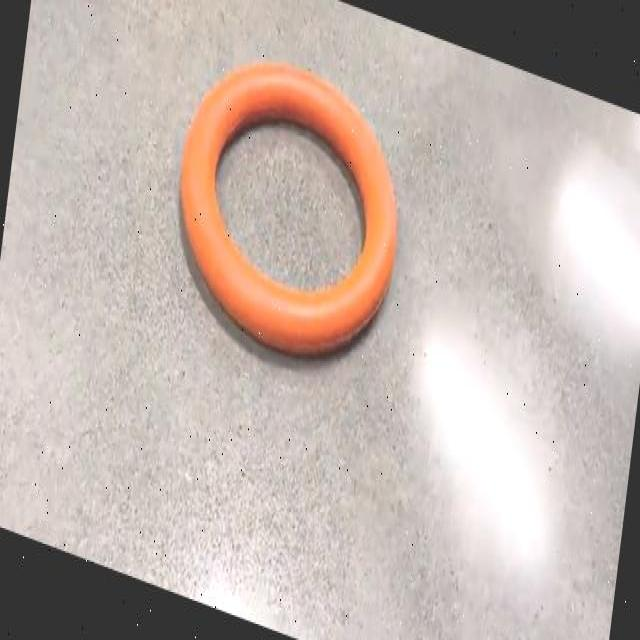note: (181, 62, 397, 354)
